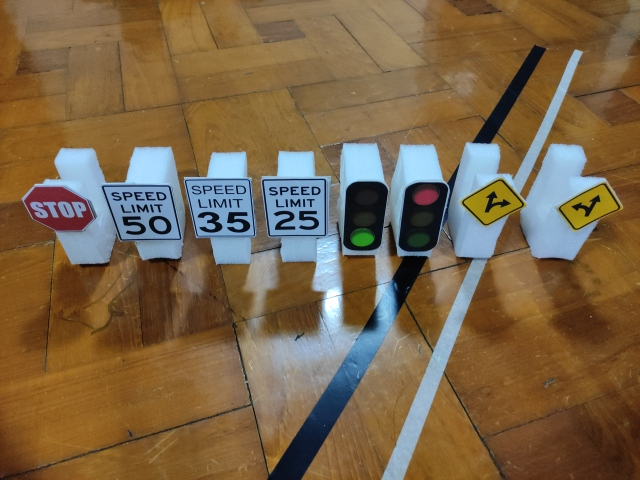Green Traffic Light: (342, 181, 389, 251)
Red Traffic Light: (399, 183, 449, 253)
Speed Limit 25: (261, 177, 329, 238)
Speed Limit 35: (184, 177, 256, 237)
Speed Limit 50: (100, 183, 183, 242)
Stop Sign: (21, 183, 97, 234)
Straight Or Left Sign: (557, 181, 622, 231)
Straight Or Right Sign: (462, 178, 525, 226)
